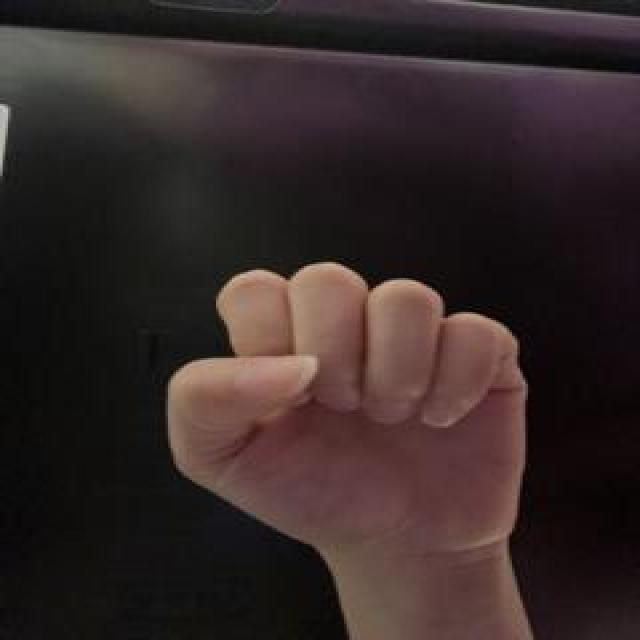S: (157, 256, 534, 554)
